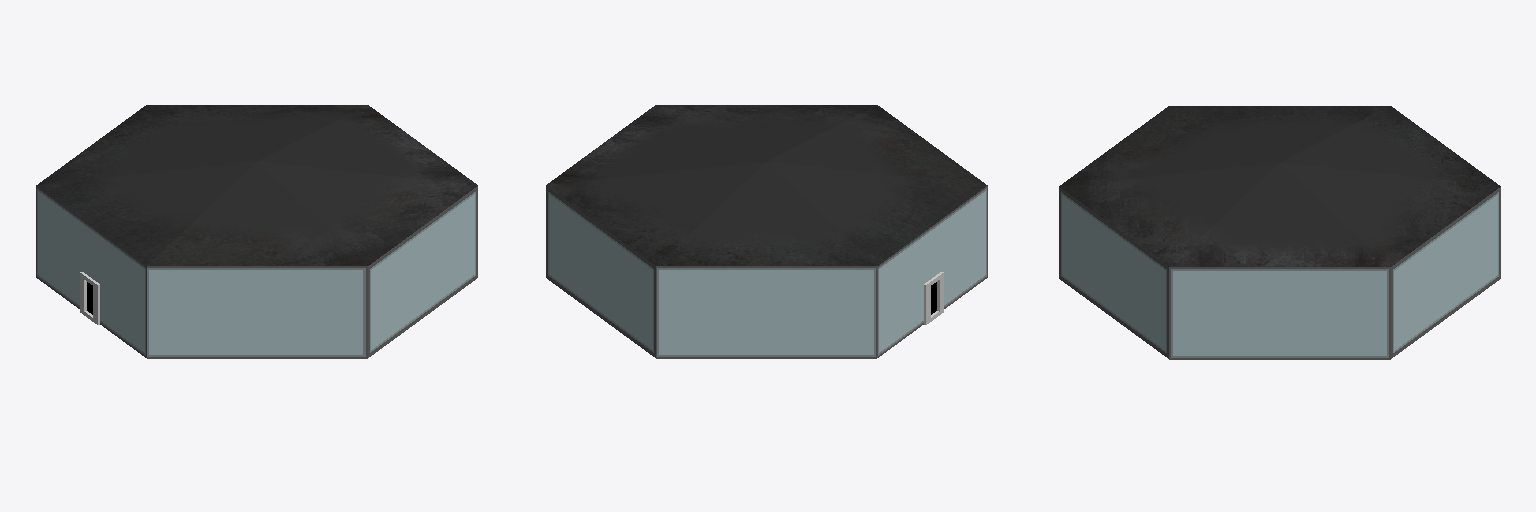
The picture shows the model from 3 angles: view 1: azimuth 30°, elevation 25°; view 2: azimuth 150°, elevation 25°; view 3: azimuth 270°, elevation 25°; orthographic projection.
Visible parts, largest first — view 1: cylinder, cube; view 2: cylinder, cube; view 3: cylinder.
Part boxes in pixels (bbox=[...]): cylinder: bbox=[36, 105, 477, 358]; cube: bbox=[80, 272, 99, 324]; cylinder: bbox=[546, 105, 987, 358]; cube: bbox=[924, 272, 943, 324]; cylinder: bbox=[1059, 106, 1500, 359].
Bounding box in the file's own units: 5.46 × 2.94 × 6.25.
2 materials, 2 textured.